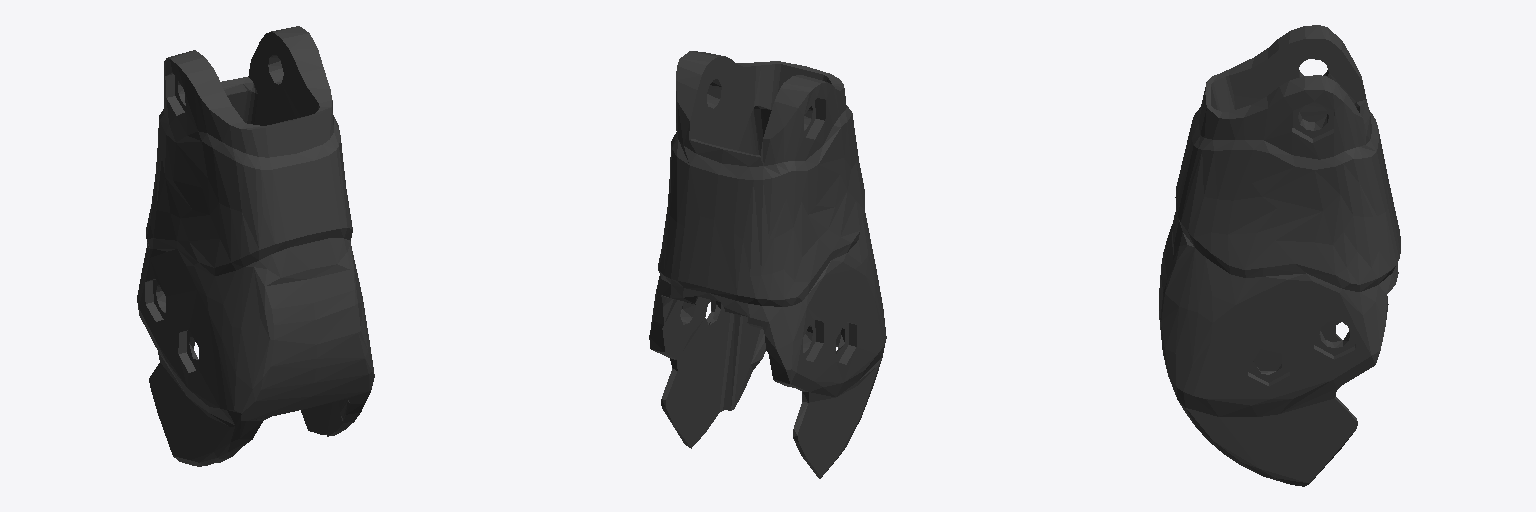
File: L_thumb_intermediate.obj
3 views of the same model, side by side, from view 1: azimuth 30°, elevation 25°; view 2: azimuth 150°, elevation 25°; view 3: azimuth 270°, elevation 25° (orthographic).
Bounding box in the file's own units: 0.0162 × 0.0424 × 0.0234.